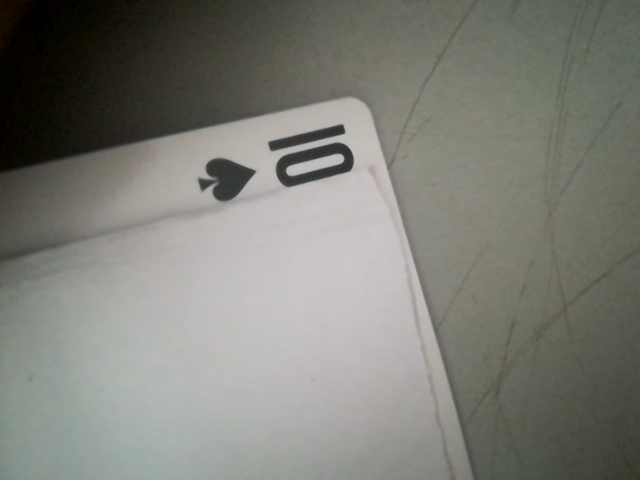ht 10: (166, 111, 379, 202)
